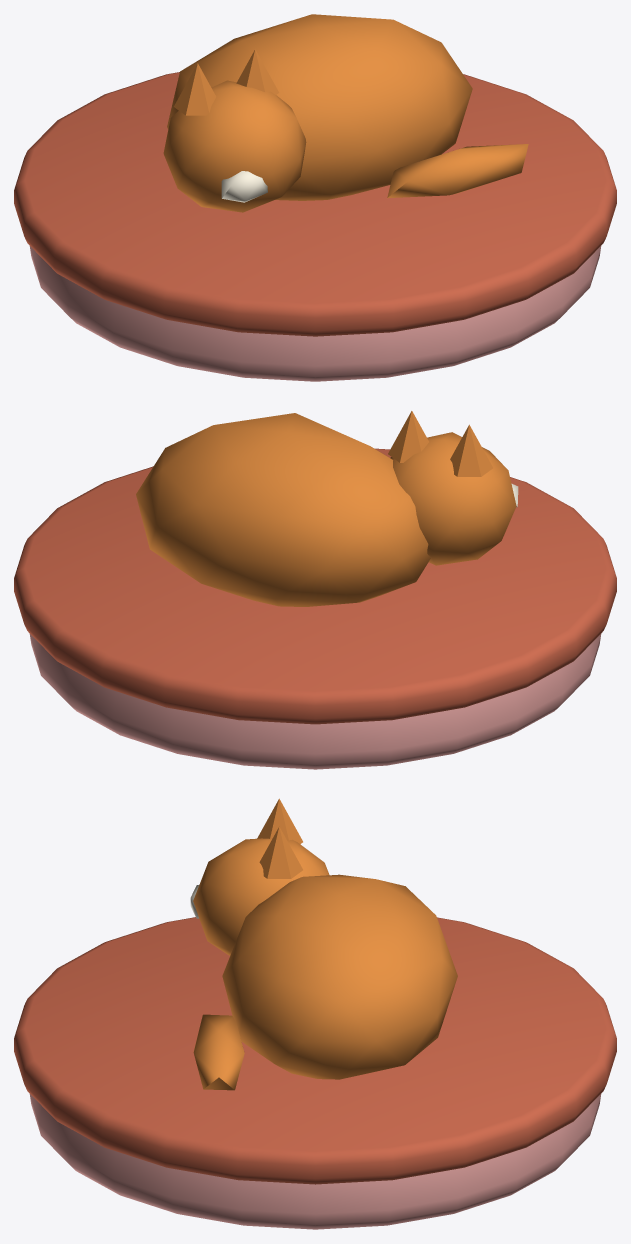
The model's file is office_cat.glb.
The picture shows the model from 3 angles, top to bottom: view 1: azimuth 30°, elevation 25°; view 2: azimuth 150°, elevation 25°; view 3: azimuth 270°, elevation 25°; orthographic projection.
Parts seen in each view (by area): view 1: office_cat; view 2: office_cat; view 3: office_cat.
Boxes of the visible parts, x1,y1,x2,y2 form: office_cat: [14, 14, 616, 381]; office_cat: [14, 411, 616, 769]; office_cat: [14, 798, 616, 1229].
Size of the model in its own units: 1 by 0.46 by 1.
1 material, 1 textured.
